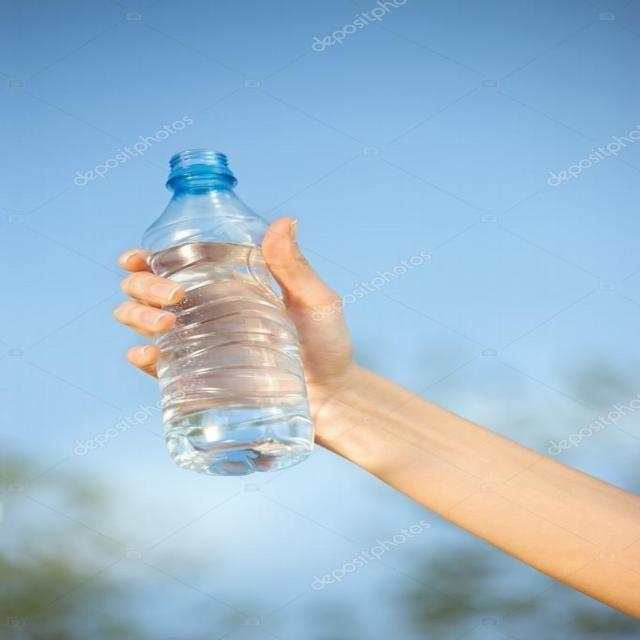bottle-plastic: (137, 145, 321, 482)
